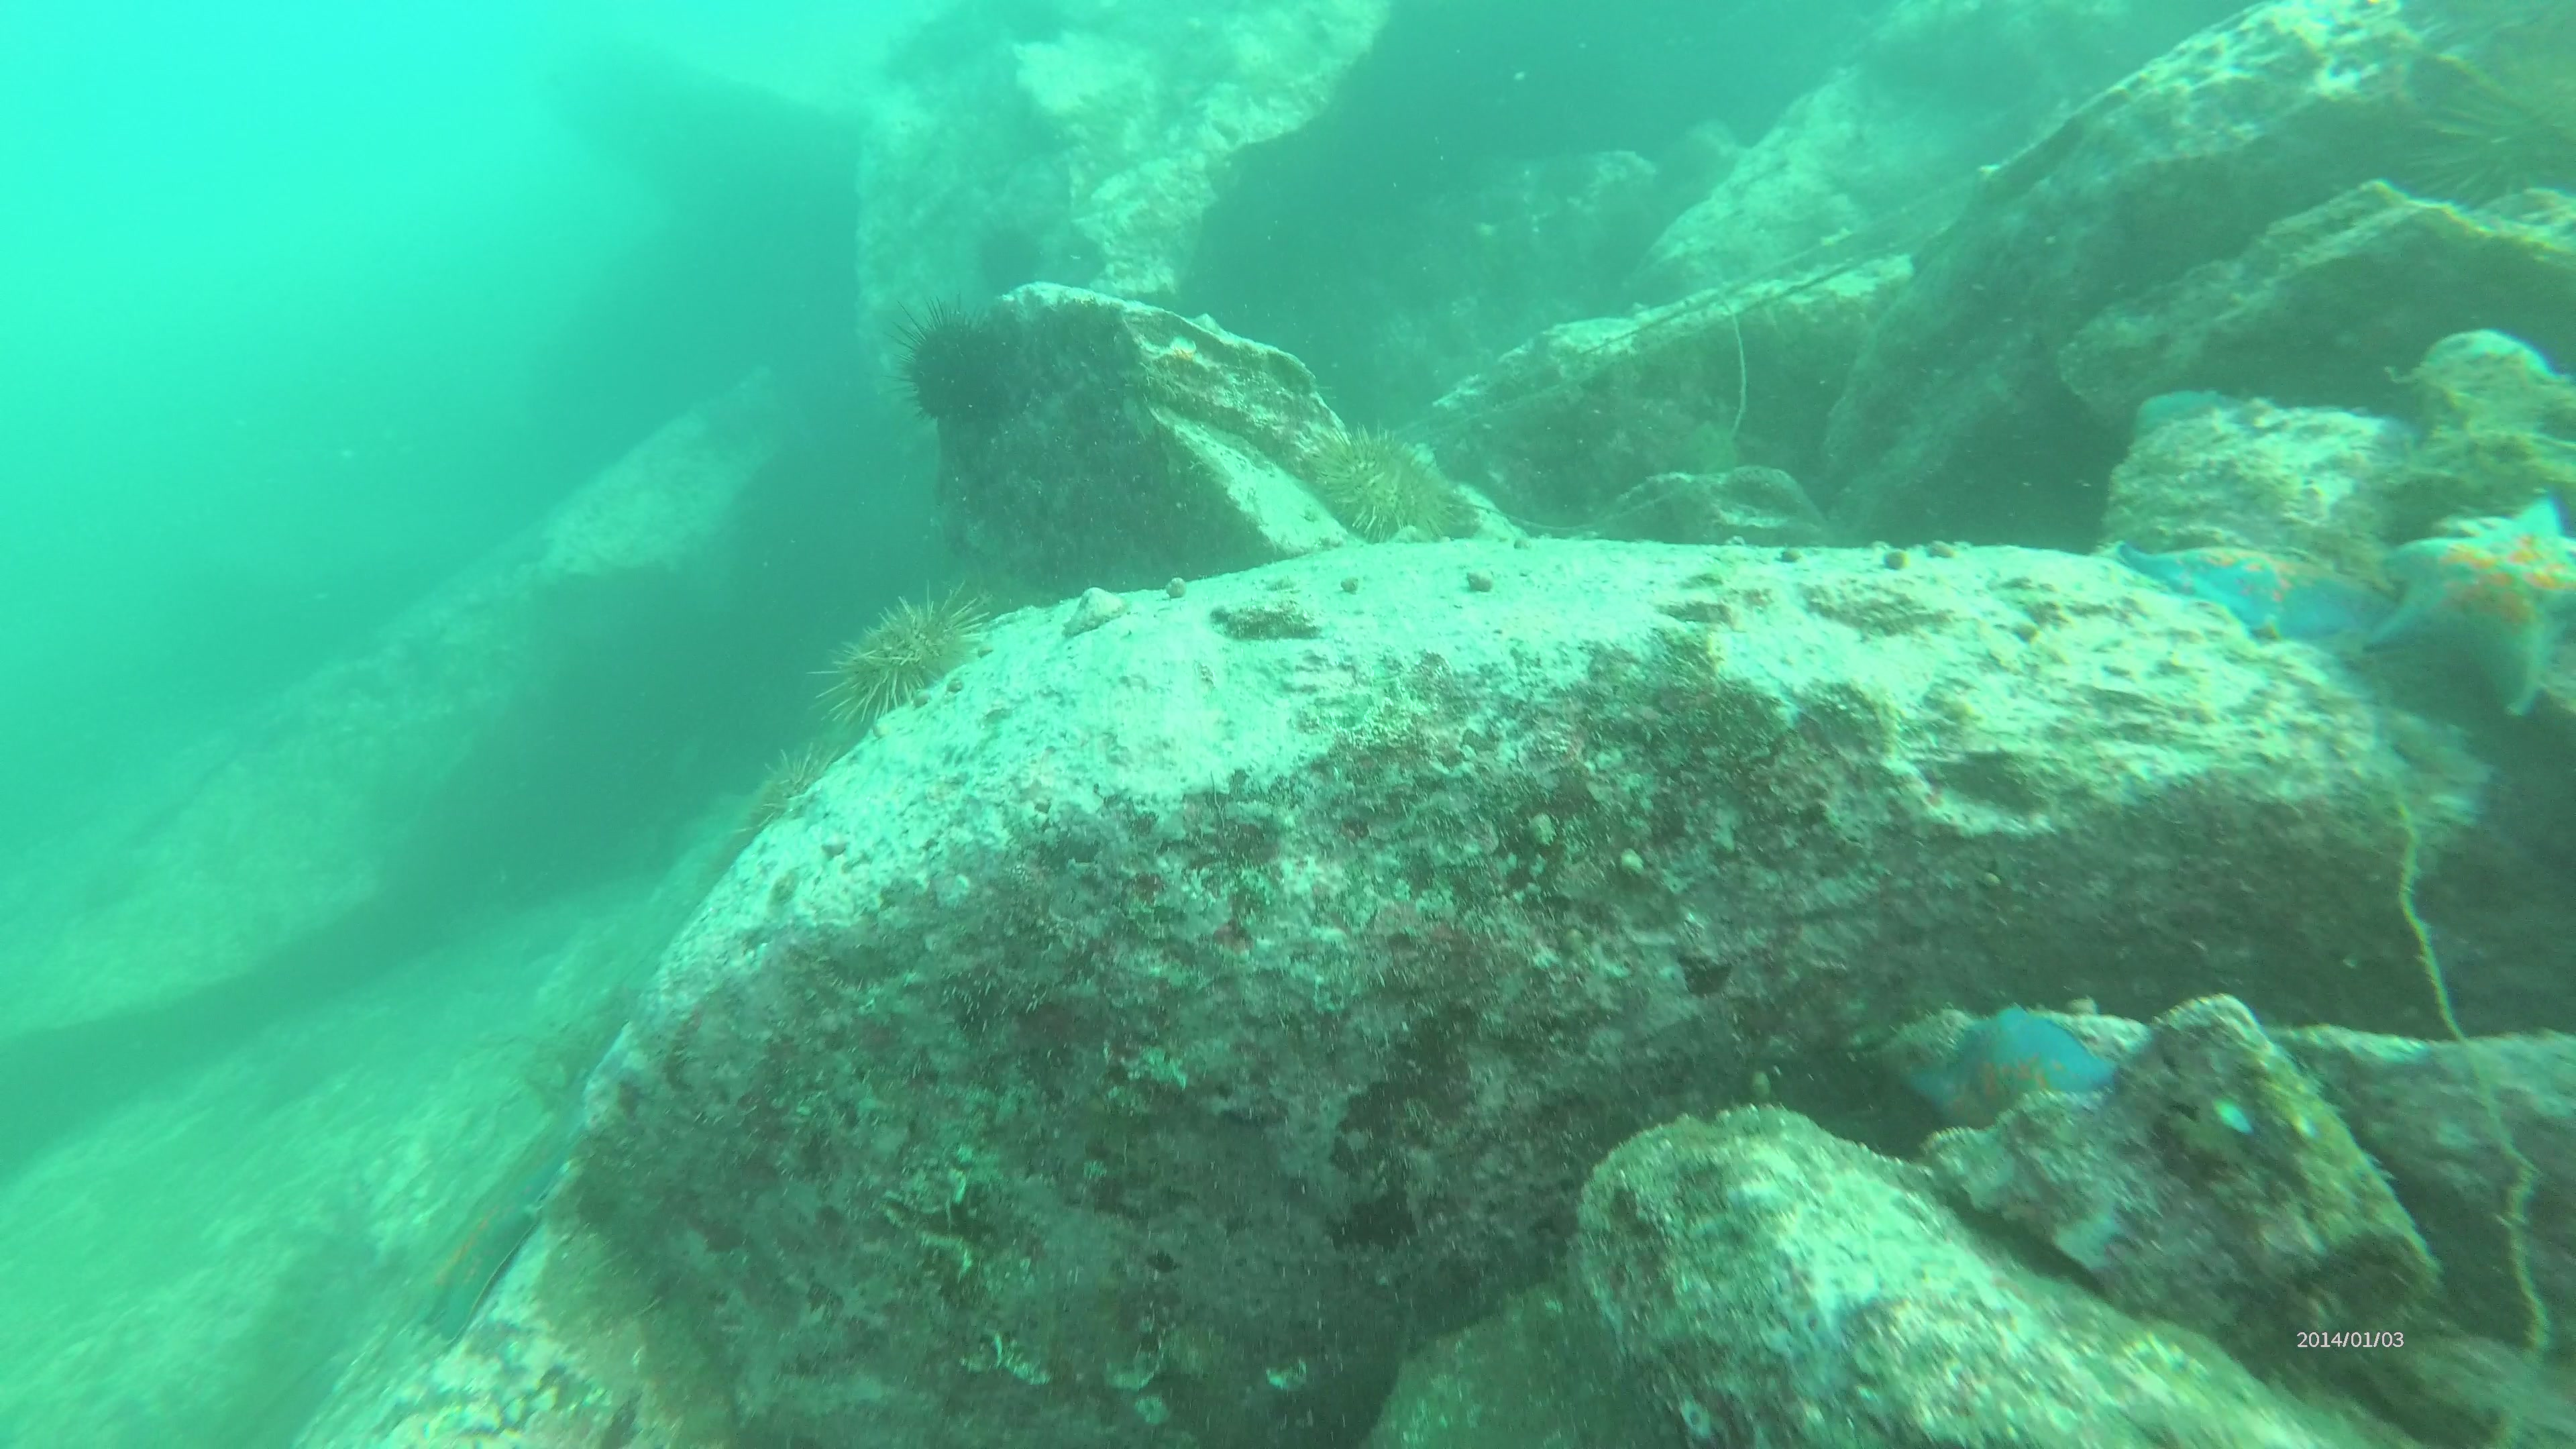echinus: (803, 575, 1005, 732), (878, 280, 1028, 446), (1302, 418, 1433, 540), (740, 741, 840, 839)
starfish: (2381, 487, 2576, 711), (1882, 1003, 2141, 1161), (2116, 520, 2392, 644), (2408, 326, 2576, 395)
